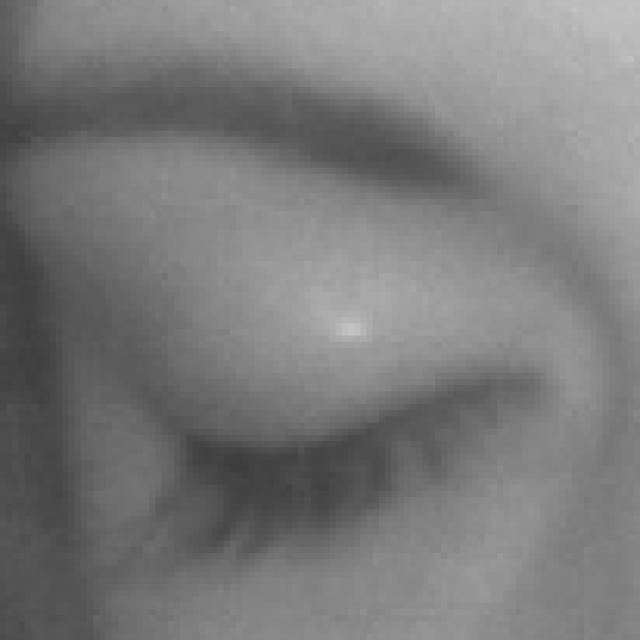Eyeclosed: (140, 221, 561, 622)
